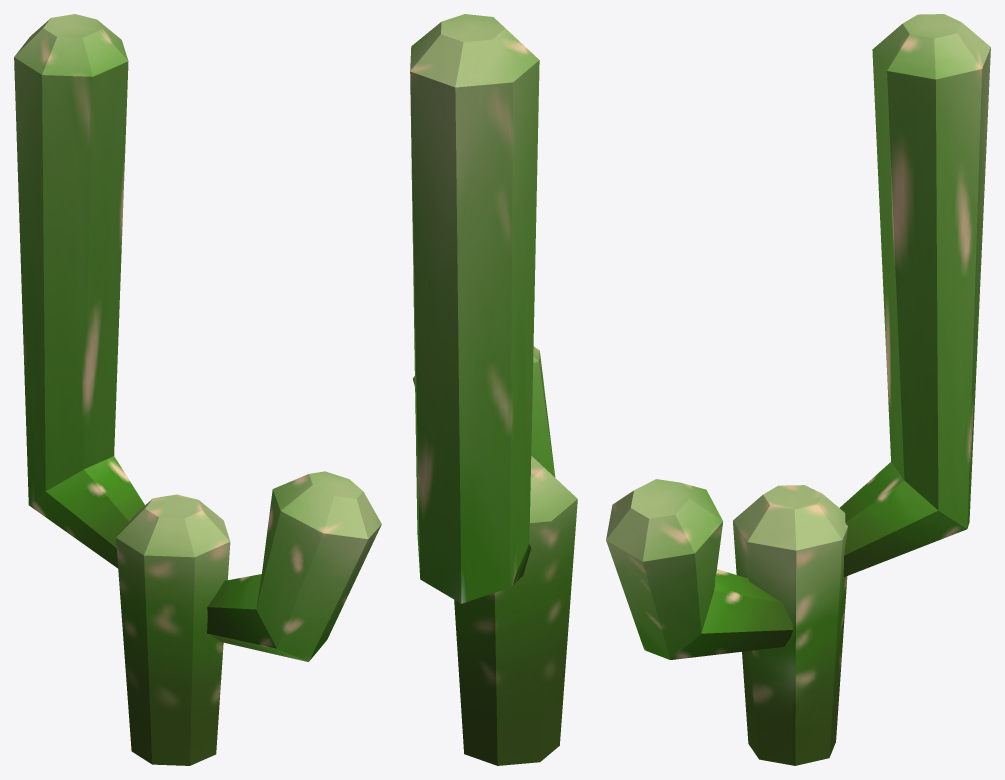
File: tree2.fbx
3 renders of one model, left to right at view 1: azimuth 30°, elevation 25°; view 2: azimuth 150°, elevation 25°; view 3: azimuth 270°, elevation 25°, orthographic. The views are drawn at different scales.
Parts seen in each view (by area): view 1: tree2; view 2: tree2; view 3: tree2.
Boxes of the visible parts, box(x1,y1,x2,y2) form: tree2: box(14, 14, 381, 765); tree2: box(410, 14, 577, 765); tree2: box(606, 14, 990, 765).
Size of the model in its own units: 32.12 by 96.73 by 47.93.
